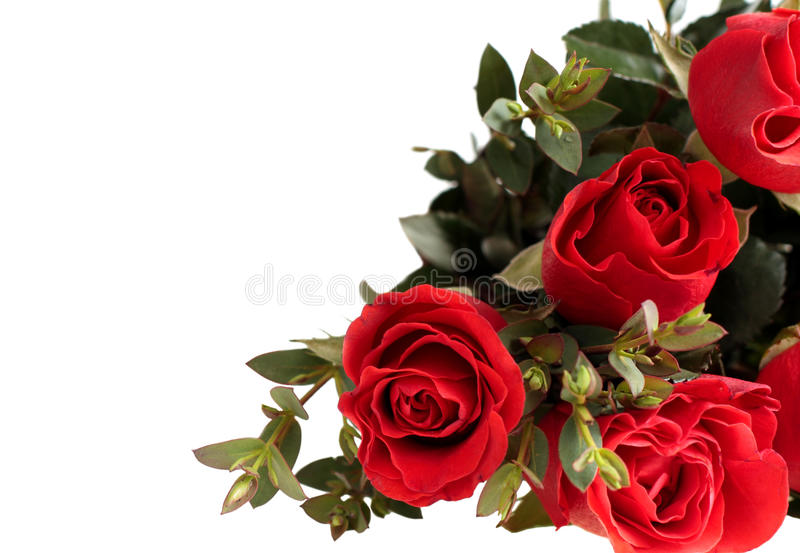RedRose: (353, 291, 502, 509), (593, 385, 769, 553), (564, 170, 722, 319), (695, 9, 800, 205)
